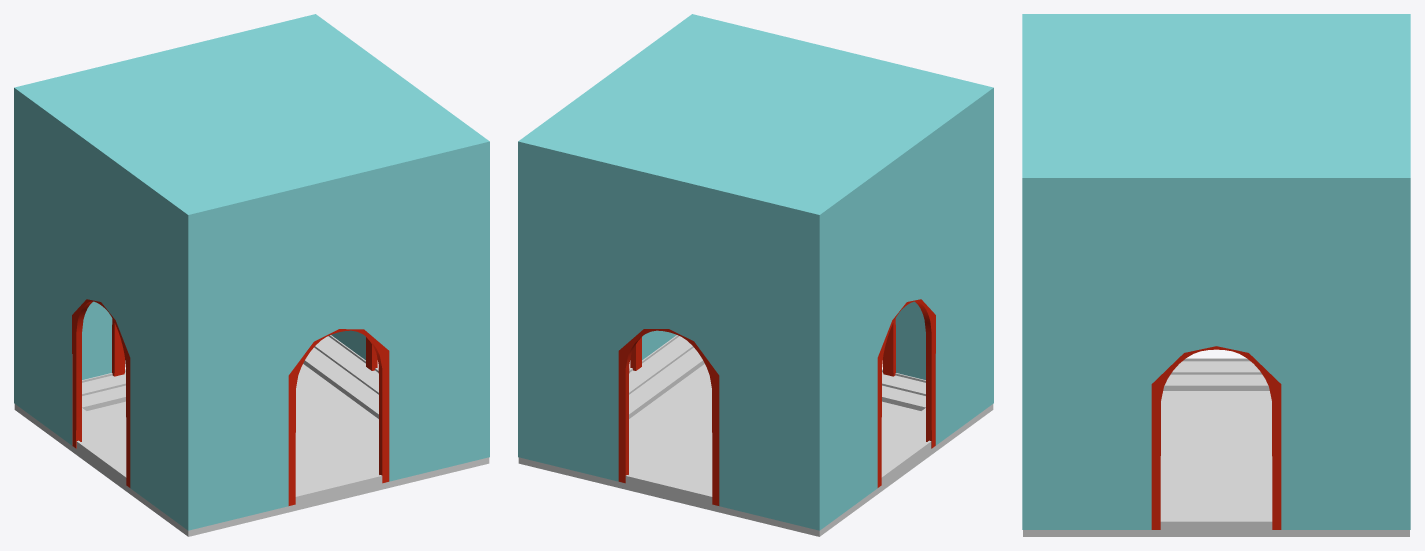
File: Room1.fbx
3 renders of one model, left to right at view 1: azimuth 30°, elevation 25°; view 2: azimuth 150°, elevation 25°; view 3: azimuth 270°, elevation 25°, orthographic. The views are drawn at different scales.
Parts seen in each view (by area): view 1: Room1; view 2: Room1; view 3: Room1.
Boxes of the visible parts, x1,y1,x2,y2 form: Room1: (14, 14, 489, 536); Room1: (518, 14, 993, 536); Room1: (1022, 14, 1410, 536).
Size of the model in its own units: 1186 by 1210 by 1186.
